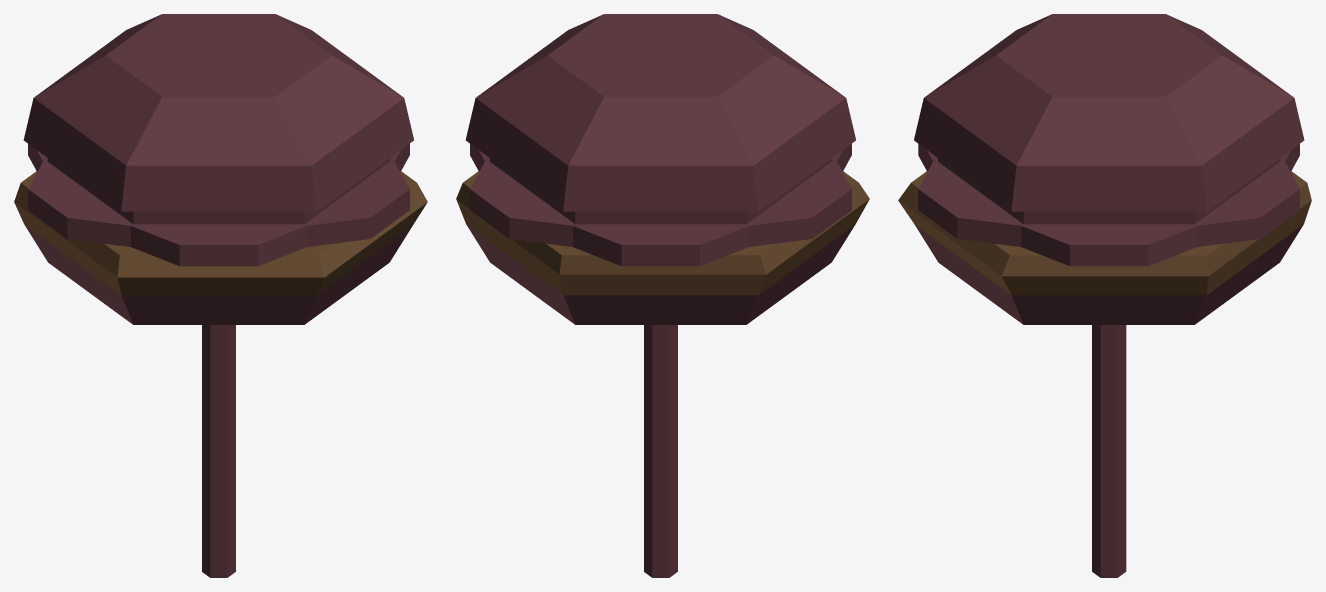
The model's file is burger-statue.fbx.
3 renders of one model, left to right at view 1: azimuth 30°, elevation 25°; view 2: azimuth 150°, elevation 25°; view 3: azimuth 270°, elevation 25°, orthographic.
Visible parts, largest first — view 1: burger-statue; view 2: burger-statue; view 3: burger-statue.
Boxes of the visible parts, box(x1,y1,x2,y2) form: burger-statue: box(14, 14, 427, 577); burger-statue: box(456, 14, 869, 577); burger-statue: box(898, 14, 1311, 577).
Size of the model in its own units: 5.07 by 7.3 by 5.3.
